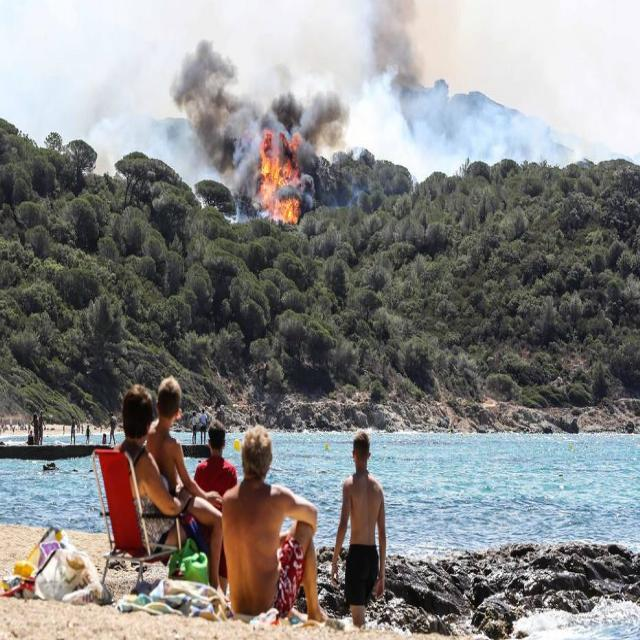Fire: (256, 132, 309, 225)
